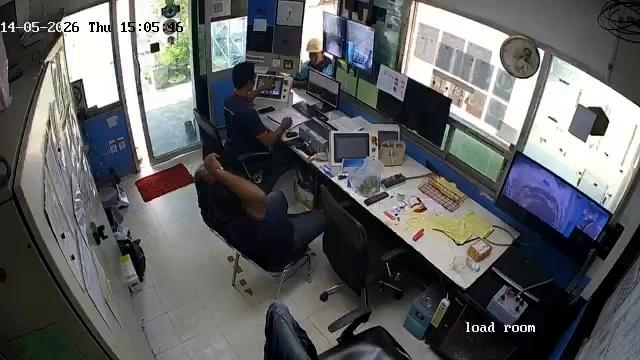Head: (188, 147, 249, 213), (229, 54, 262, 99)
People: (187, 148, 340, 238), (210, 54, 301, 146)
